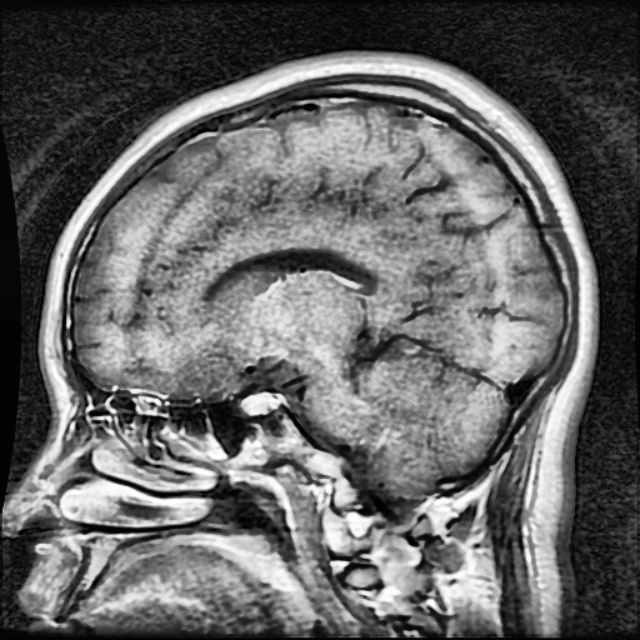Pituitary: (240, 390, 280, 414)
